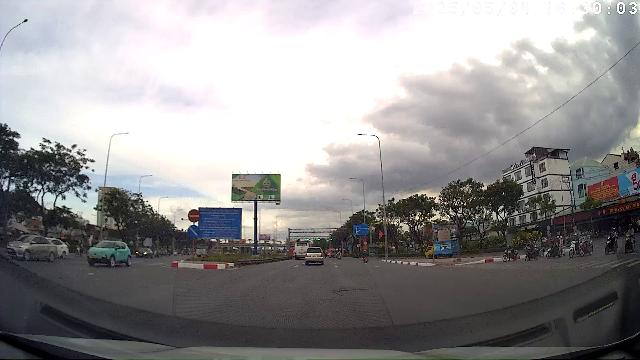102-cam-di-nguoc-chieu: (187, 208, 201, 223)
302a-huong-phai-di-vong-chuong-ngai-vat-1: (187, 224, 200, 239)
